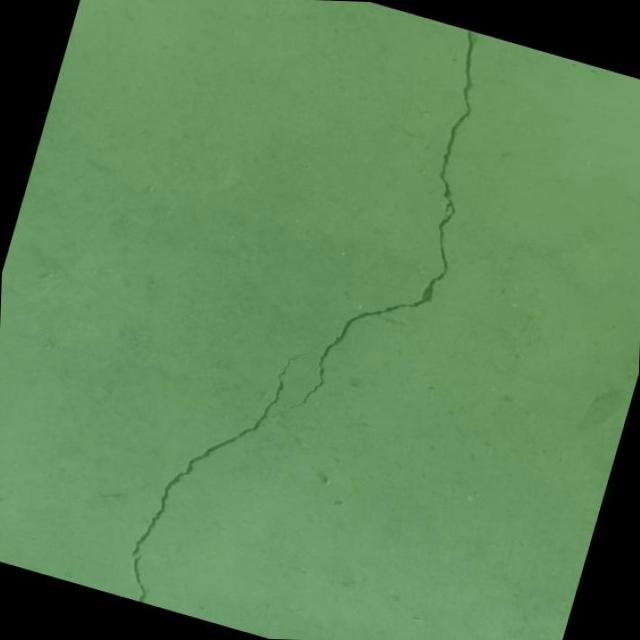crack: (286, 6, 515, 444), (117, 302, 324, 632)
